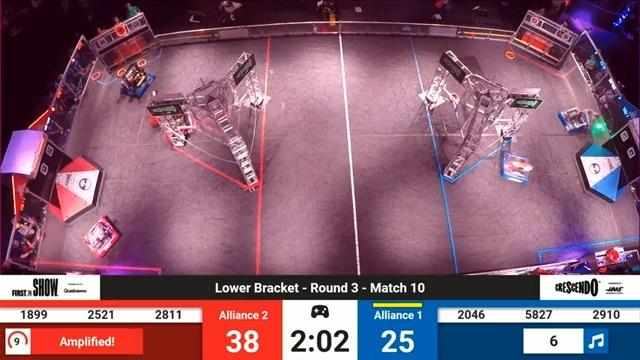robot: (81, 216, 123, 259), (140, 97, 187, 134), (494, 151, 542, 187), (114, 63, 151, 102), (558, 103, 589, 136), (168, 108, 196, 136)
